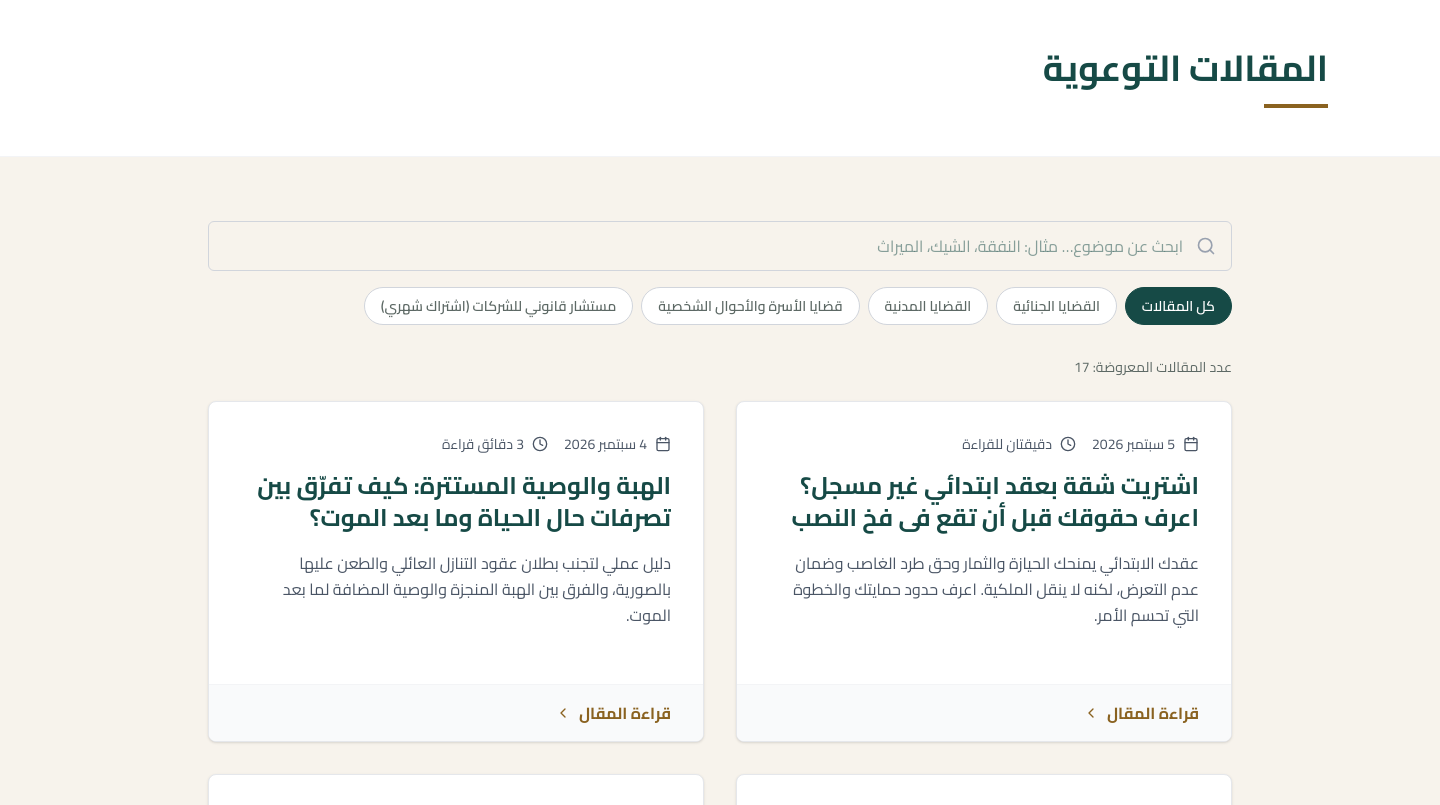
Test: Articles page › filters by practice area
The width and height of the screenshot is (1440, 805).
What coordinates should you click on to do the following:
click the button "القضايا الجنائية"
I would click on:
 (1057, 306)
Its box is [996,287,1117,325].
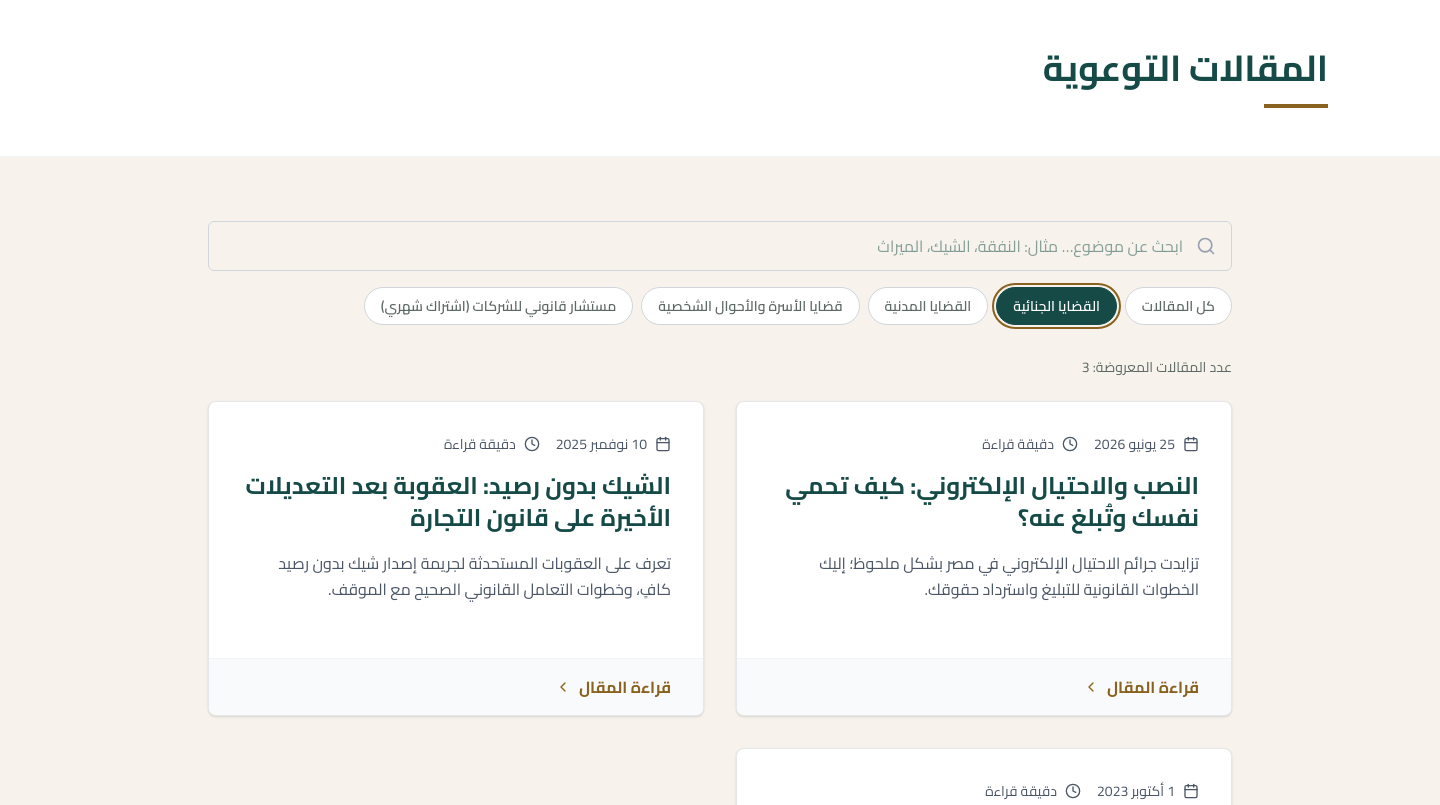
Result: the number of links "قراءة المقال" is 3
